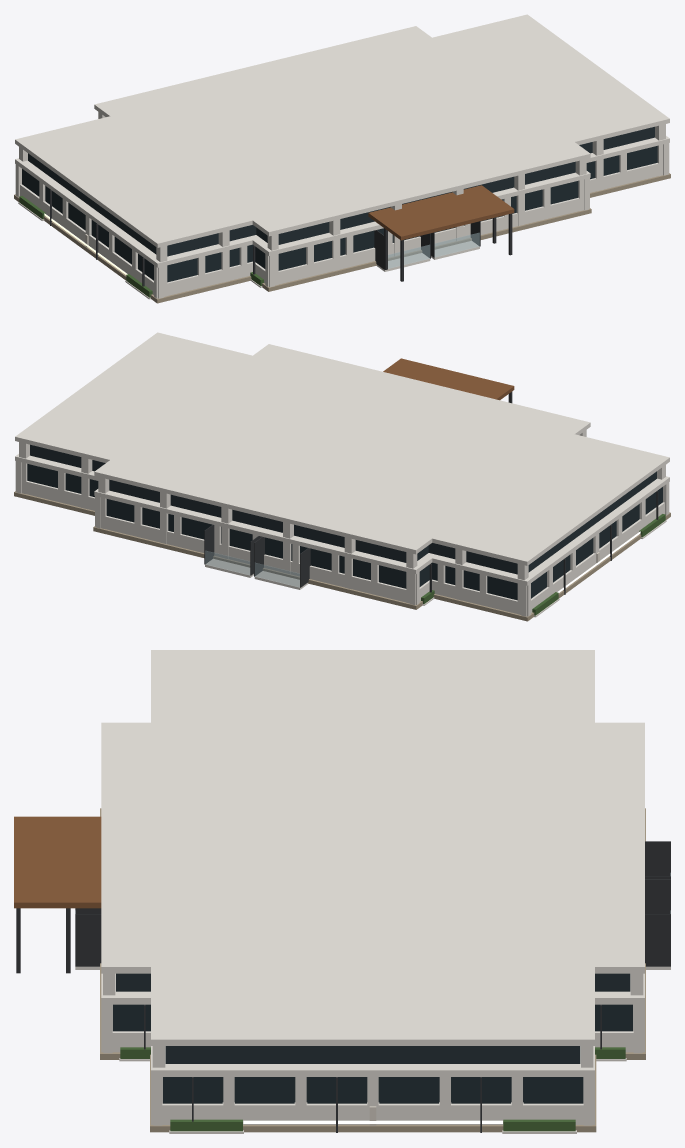
File: towers.glb
3 renders of one model, top to bottom at view 1: azimuth 30°, elevation 25°; view 2: azimuth 150°, elevation 25°; view 3: azimuth 270°, elevation 25°, orthographic. The views are drawn at different scales.
Parts seen in each view (by area): view 1: podium-wide-slab, podium-square-slab, crown-square-slab, floor-wide-slab, floor-square-slab, podium-square-teak, crown-wide-slab, podium-wide-lobby, podium-square-lobby, floor-wide-glass-q4, podium-wide-teak, floor-square-glass-q4 (+8 smaller); view 2: podium-wide-slab, podium-square-slab, floor-square-slab, floor-wide-slab, crown-square-slab, crown-wide-slab, podium-square-lobby, podium-wide-lobby, podium-square-teak, floor-wide-glass-q1, floor-square-glass-q1, floor-square-glass-q2 (+7 smaller); view 3: podium-square-slab, podium-wide-slab, floor-wide-slab, podium-square-teak, crown-wide-slab, podium-wide-lobby, floor-square-fin, crown-square-slab, floor-wide-glass-q2, floor-wide-glass-q3, floor-square-slab, podium-wide-stone (+7 smaller).
Boxes of the visible parts, x1=… form: podium-wide-slab: x1=15, y1=14, x2=669, y2=296; podium-square-slab: x1=94, y1=26, x2=590, y2=285; crown-square-slab: x1=252, y1=93, x2=589, y2=287; floor-wide-slab: x1=15, y1=136, x2=669, y2=299; floor-square-slab: x1=248, y1=171, x2=590, y2=287; podium-square-teak: x1=371, y1=187, x2=514, y2=240; crown-wide-slab: x1=15, y1=161, x2=669, y2=298; podium-wide-lobby: x1=28, y1=126, x2=654, y2=256; podium-square-lobby: x1=256, y1=161, x2=575, y2=244; floor-wide-glass-q4: x1=91, y1=220, x2=253, y2=282; podium-wide-teak: x1=368, y1=185, x2=496, y2=227; floor-square-glass-q4: x1=255, y1=228, x2=419, y2=270; podium-wide-slab: x1=15, y1=332, x2=669, y2=614; podium-square-slab: x1=94, y1=344, x2=590, y2=603; floor-square-slab: x1=94, y1=489, x2=436, y2=605; floor-wide-slab: x1=15, y1=454, x2=669, y2=617; crown-square-slab: x1=95, y1=464, x2=432, y2=605; crown-wide-slab: x1=15, y1=479, x2=669, y2=616; podium-square-lobby: x1=109, y1=479, x2=428, y2=562; podium-wide-lobby: x1=30, y1=444, x2=656, y2=574; podium-square-teak: x1=383, y1=358, x2=514, y2=400; floor-wide-glass-q1: x1=431, y1=538, x2=593, y2=600; floor-square-glass-q1: x1=261, y1=536, x2=429, y2=588; floor-square-glass-q2: x1=106, y1=499, x2=252, y2=550; podium-square-slab: x1=101, y1=722, x2=644, y2=1031; podium-wide-slab: x1=151, y1=650, x2=594, y2=1103; floor-wide-slab: x1=151, y1=1046, x2=594, y2=1133; podium-square-teak: x1=14, y1=816, x2=101, y2=908; crown-wide-slab: x1=151, y1=1102, x2=594, y2=1125; podium-wide-lobby: x1=165, y1=1046, x2=580, y2=1102; floor-square-fin: x1=75, y1=841, x2=670, y2=1049; crown-square-slab: x1=101, y1=805, x2=644, y2=1053; floor-wide-glass-q2: x1=379, y1=1077, x2=583, y2=1103; floor-wide-glass-q3: x1=163, y1=1077, x2=366, y2=1103; floor-square-slab: x1=75, y1=966, x2=670, y2=1061; podium-wide-stone: x1=150, y1=1054, x2=596, y2=1132.
Bounding box in the file's own units: 41.08 × 4.55 × 29.
